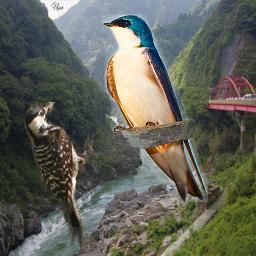Swallow: (102, 14, 208, 202)
Woodpecker: (24, 102, 98, 247)
